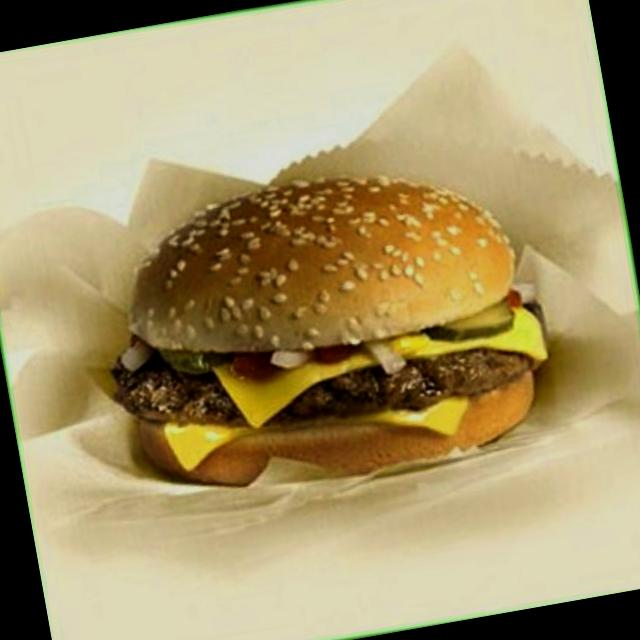Hamburger: (74, 138, 569, 526)
